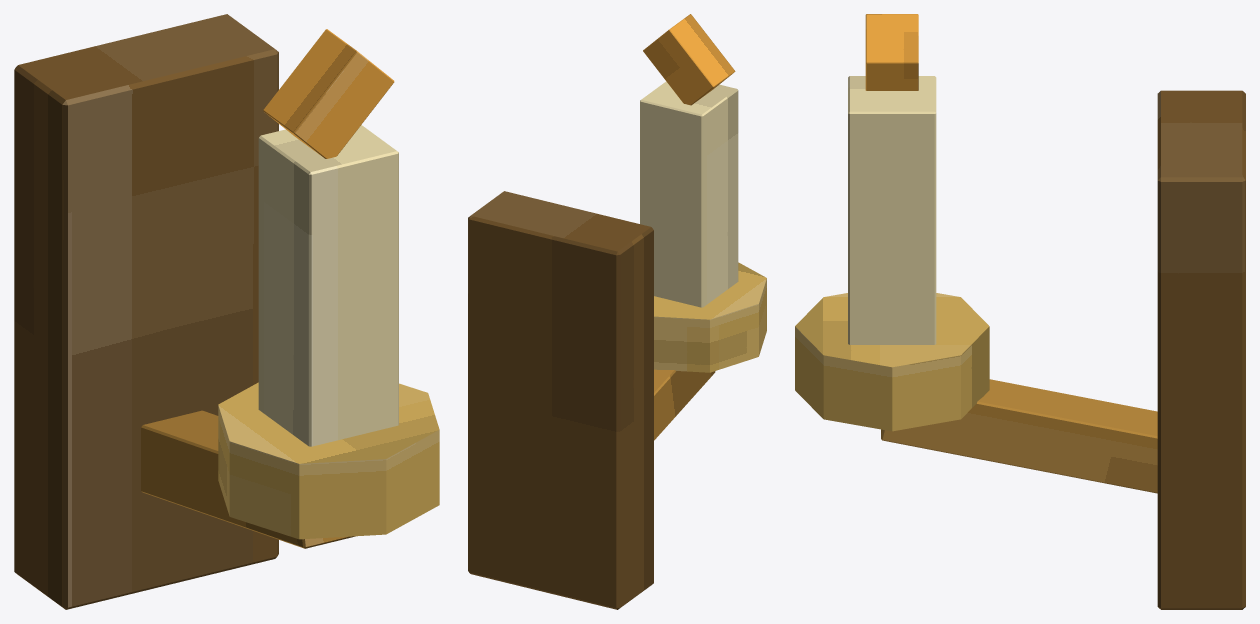
File: wall_sconce.glb
The picture shows the model from 3 angles, left to right: view 1: azimuth 30°, elevation 25°; view 2: azimuth 150°, elevation 25°; view 3: azimuth 270°, elevation 25°; orthographic projection. The views are drawn at different scales.
Visible parts, largest first — view 1: SconcePlate, SconceCandle, SconceCup, SconceFlame, SconceArm; view 2: SconcePlate, SconceCandle, SconceCup, SconceFlame, SconceArm; view 3: SconcePlate, SconceCandle, SconceCup, SconceArm, SconceFlame.
Boxes of the visible parts, x1,y1,x2,y2 form: SconcePlate: [14, 14, 278, 609]; SconceCandle: [258, 125, 398, 446]; SconceCup: [218, 382, 439, 539]; SconceFlame: [263, 29, 394, 158]; SconceArm: [141, 410, 355, 548]; SconcePlate: [468, 191, 653, 609]; SconceCandle: [640, 81, 738, 307]; SconceCup: [654, 262, 766, 372]; SconceFlame: [643, 14, 735, 105]; SconceArm: [654, 369, 715, 440]; SconcePlate: [1157, 90, 1245, 609]; SconceCandle: [848, 76, 936, 344]; SconceCup: [795, 293, 989, 431]; SconceArm: [881, 379, 1157, 493]; SconceFlame: [865, 14, 918, 90].
Bounding box in the file's own units: 0.24 × 0.6959 × 0.51.
1 material, 1 textured.
